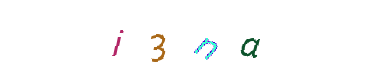3: (154, 0, 234, 80)
A: (207, 0, 287, 80)
I: (106, 0, 186, 80)
N: (174, 0, 254, 80)
